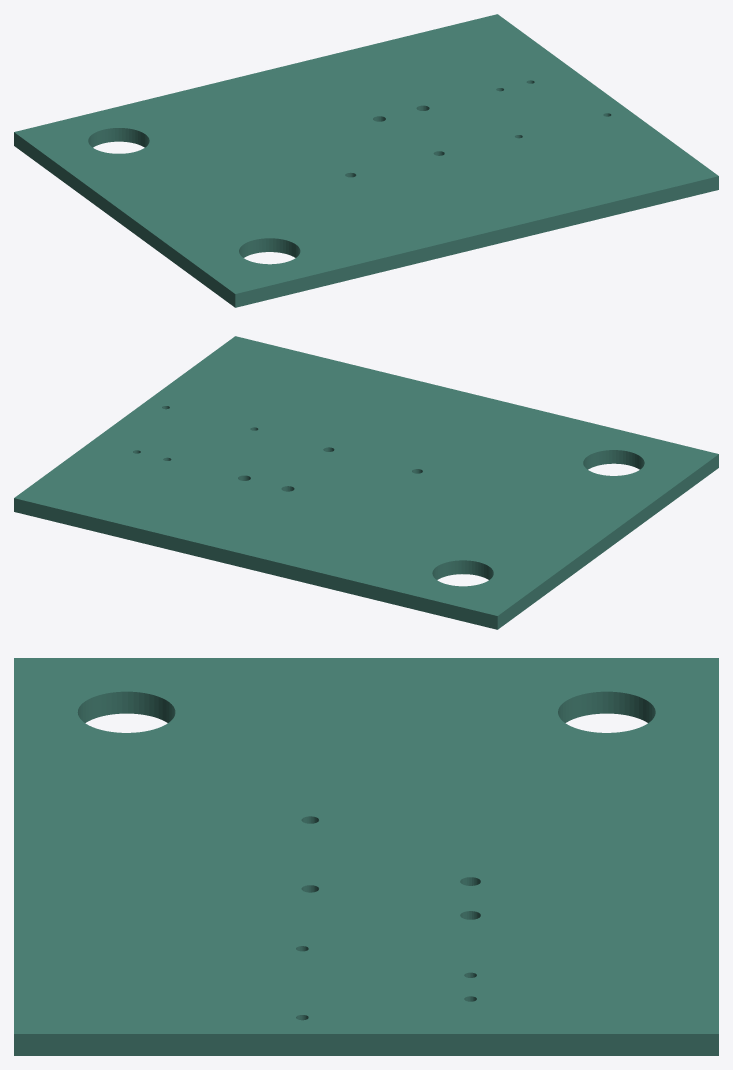
The model's file is board.glb.
The picture shows the model from 3 angles, top to bottom: view 1: azimuth 30°, elevation 25°; view 2: azimuth 150°, elevation 25°; view 3: azimuth 270°, elevation 25°; orthographic projection. The views are drawn at different scales.
Visible parts, largest first — view 1: board_0; view 2: board_0; view 3: board_0.
Part boxes in pixels (left/top/right/bottom): board_0: left=14, top=14, right=718, bottom=307; board_0: left=14, top=336, right=718, bottom=629; board_0: left=14, top=658, right=718, bottom=1055.
Bounding box in the file's own units: 55.5 × 1.51 × 44.
